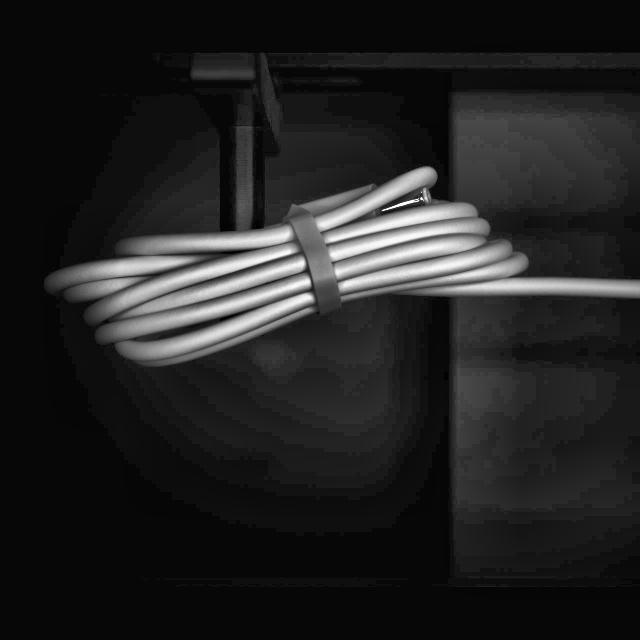Cable: (43, 162, 640, 369)
